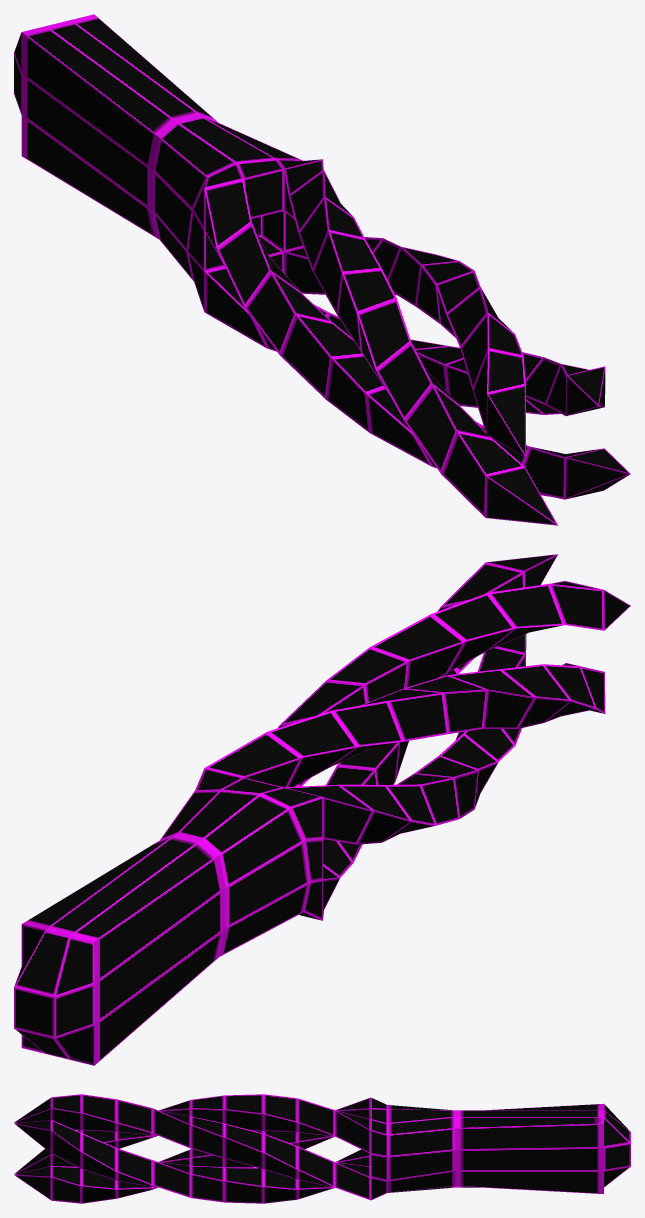
File: Quad.fbx
3 renders of one model, top to bottom at view 1: azimuth 30°, elevation 25°; view 2: azimuth 150°, elevation 25°; view 3: azimuth 270°, elevation 25°, orthographic. The views are drawn at different scales.
Visible parts, largest first — view 1: pCube1; view 2: pCube1; view 3: pCube1.
Boxes of the visible parts, x1,y1,x2,y2 form: pCube1: (14, 14, 630, 525); pCube1: (14, 554, 630, 1065); pCube1: (14, 1094, 630, 1203).
Size of the model in its own units: 1.41 by 1.41 by 7.95.
Materials: 1 (1 with a texture image).
